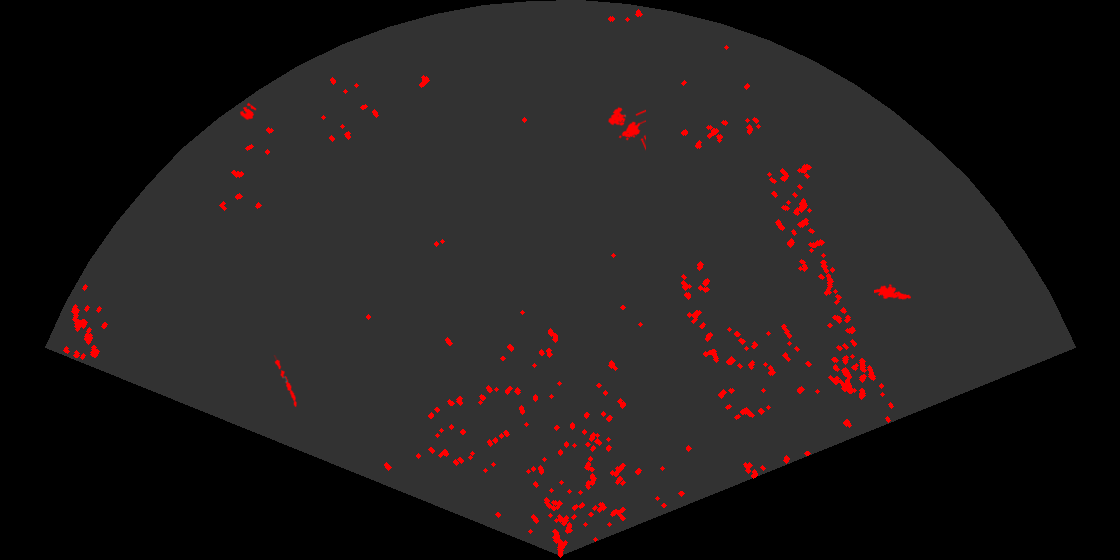ball: (238, 101, 258, 122)
cage: (606, 105, 646, 151)
chain: (272, 355, 299, 409)
frogman: (874, 282, 911, 301)
